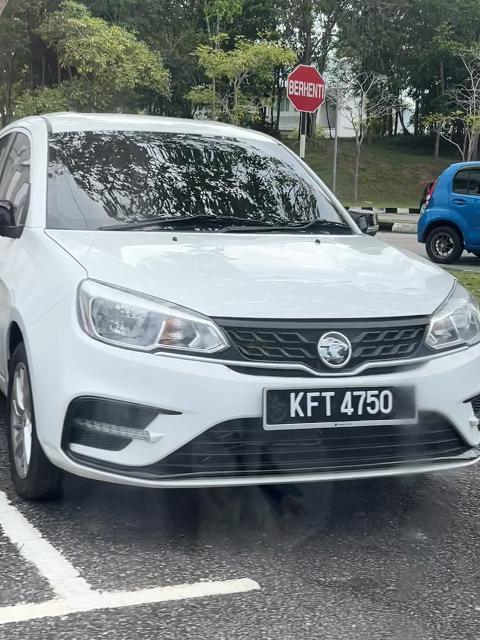KFT4750: (260, 382, 422, 434)
License_Plate: (260, 382, 422, 434)
car: (1, 107, 480, 499)
